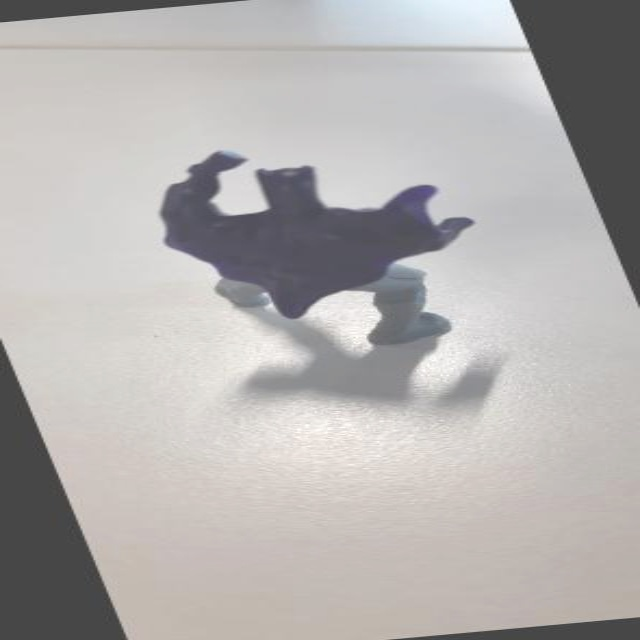Batman: (111, 129, 536, 362)
